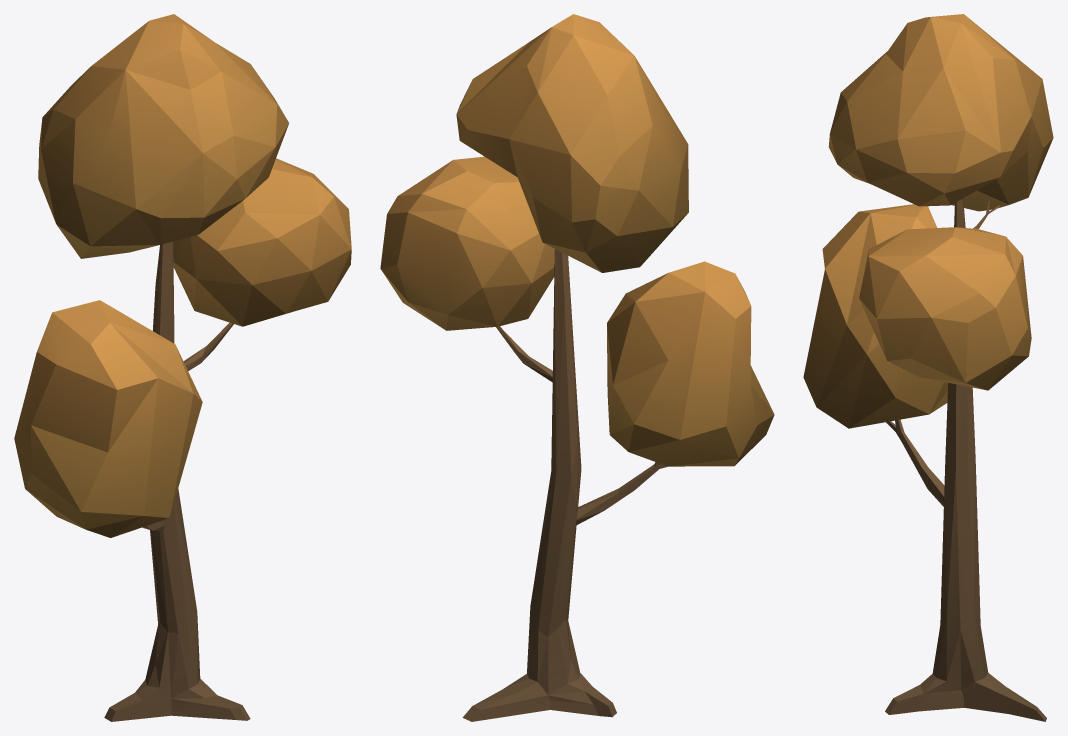
Rendered from Autumn_Tree_12.glb.
3 views of the same model, side by side, from view 1: azimuth 30°, elevation 25°; view 2: azimuth 150°, elevation 25°; view 3: azimuth 270°, elevation 25° (orthographic). The views are drawn at different scales.
Parts seen in each view (by area): view 1: Autumn_Tree_12_LOD0; view 2: Autumn_Tree_12_LOD0; view 3: Autumn_Tree_12_LOD0.
Boxes of the visible parts, x1,y1,x2,y2 form: Autumn_Tree_12_LOD0: (14, 14, 351, 721); Autumn_Tree_12_LOD0: (380, 14, 774, 721); Autumn_Tree_12_LOD0: (803, 14, 1053, 721).
Size of what is drawn, in the model's own units: 4.57 by 8.84 by 2.95.
Materials: 1 (1 with a texture image).
